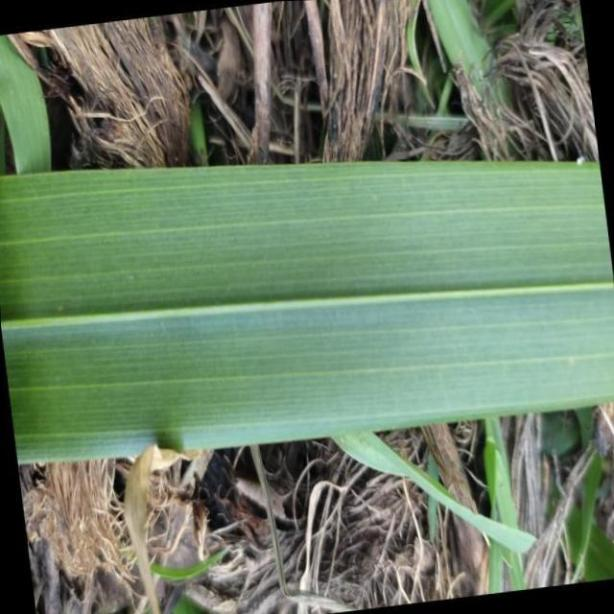Healthy: (0, 158, 614, 462)
